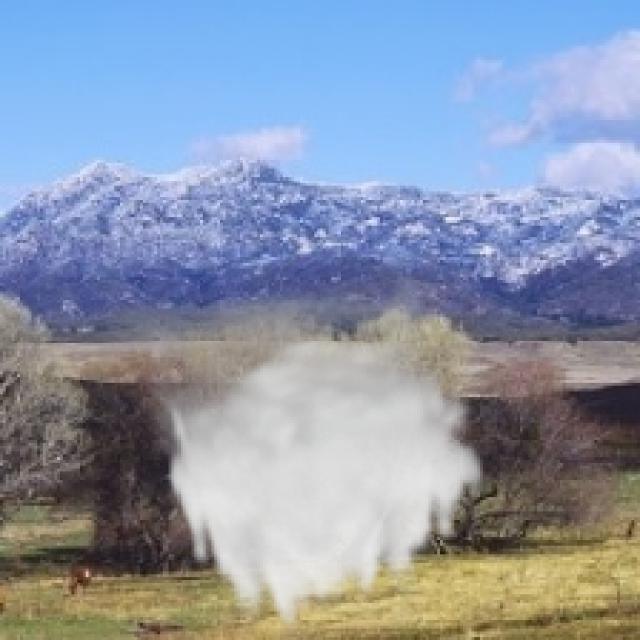smoke: (97, 263, 489, 637)
